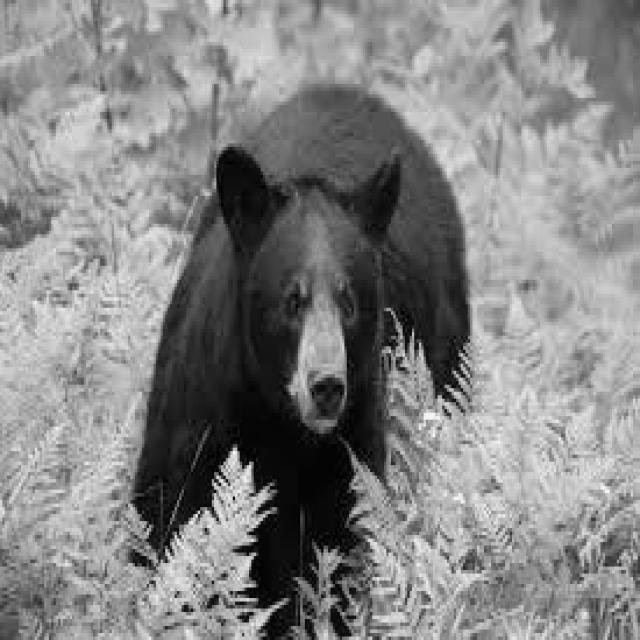Bear: (142, 100, 452, 572)
